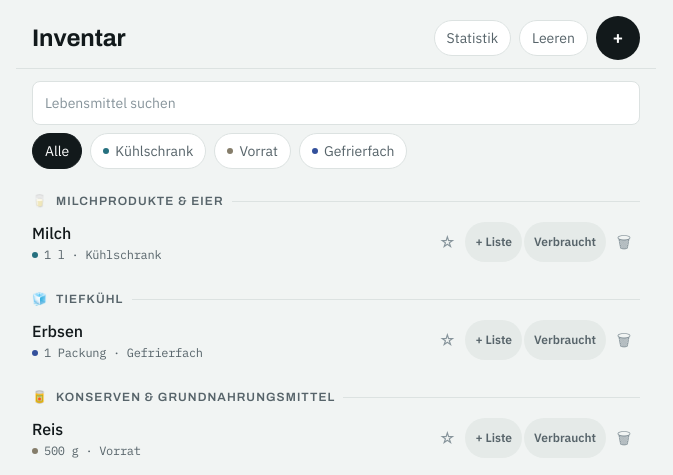
Inventory › searching and filtering › returns to everything with the "Alle" filter
Click the button "Vorrat" at (253, 151), box [214, 133, 291, 169]
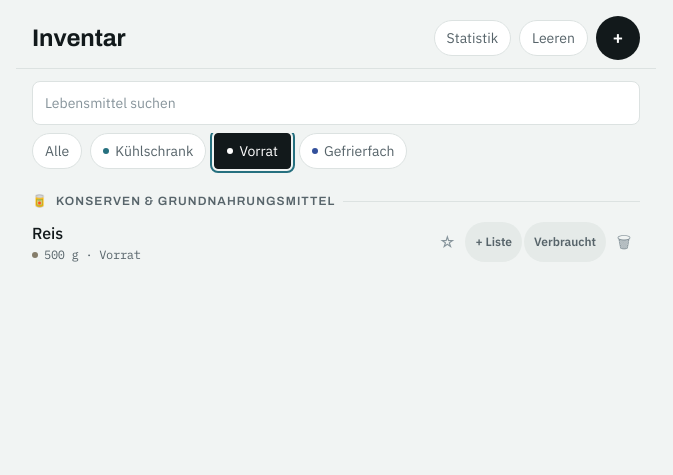
Click the button "Alle" at (57, 151), box [32, 133, 82, 169]
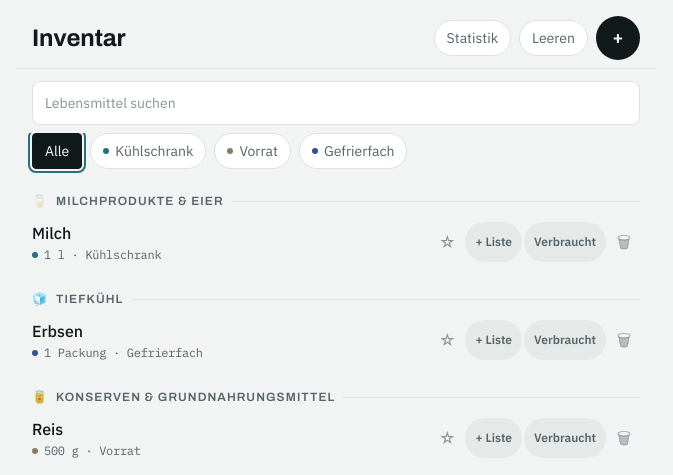
Check: the text "Milch" is shown, box [32, 223, 71, 243]
Check: the text "Erbsen" is shown, box [32, 321, 83, 341]
